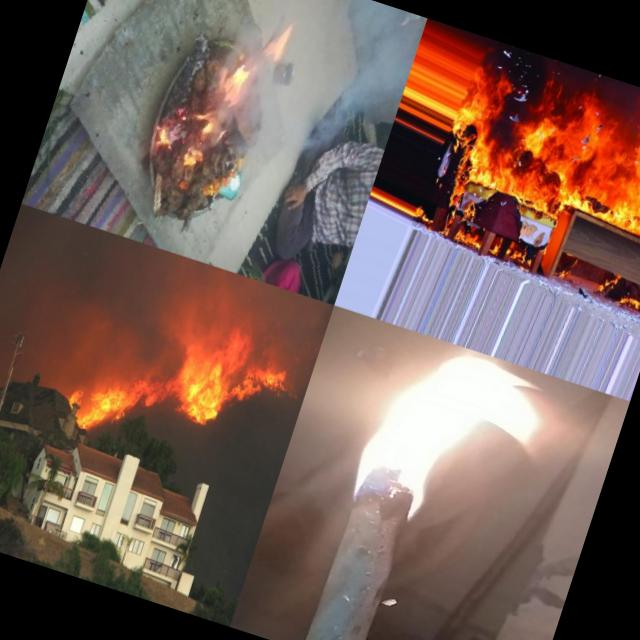fire: (317, 318, 567, 546), (436, 43, 640, 259), (208, 5, 300, 117), (169, 313, 254, 433), (231, 338, 297, 416), (73, 364, 136, 442), (128, 378, 173, 415), (190, 105, 226, 147), (144, 122, 182, 153), (176, 143, 210, 174), (62, 380, 86, 416), (284, 382, 302, 399)
smoke: (270, 0, 427, 153), (17, 218, 133, 384), (94, 240, 217, 390), (217, 105, 336, 182), (0, 204, 63, 332), (253, 284, 334, 358), (203, 268, 268, 328)
